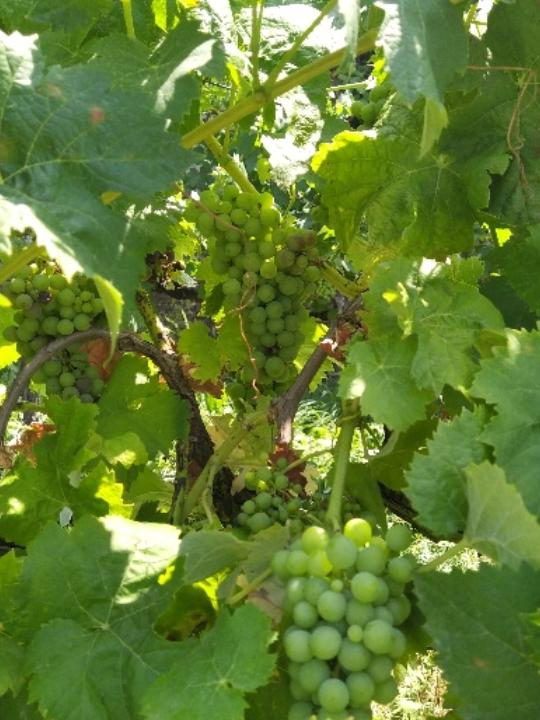grape: (180, 181, 325, 402), (266, 514, 419, 720), (1, 255, 109, 419)
